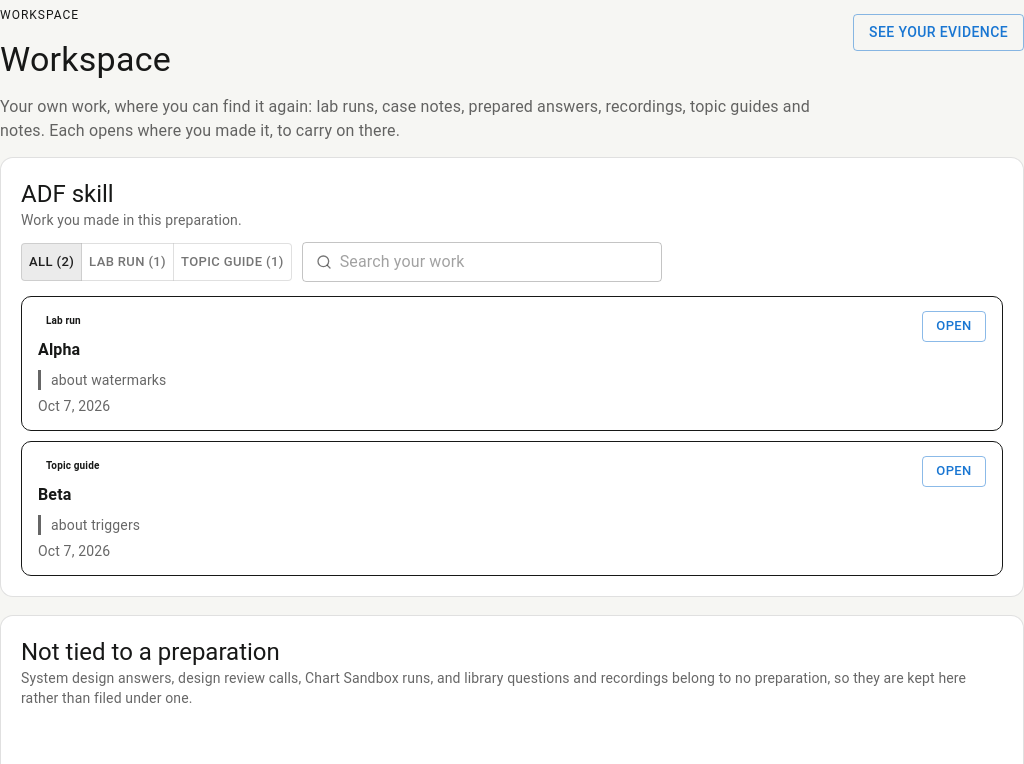
Scenario: WorkspacePage › filters by kind and searches the learner's own words
This screenshot has width=1024, height=764.
Expected: the heading "Beta" is shown, x1=38 y1=484 x2=72 y2=504
Click the button "Topic guide (1)".
click(232, 262)  # box x1=173 y1=242 x2=292 y2=281
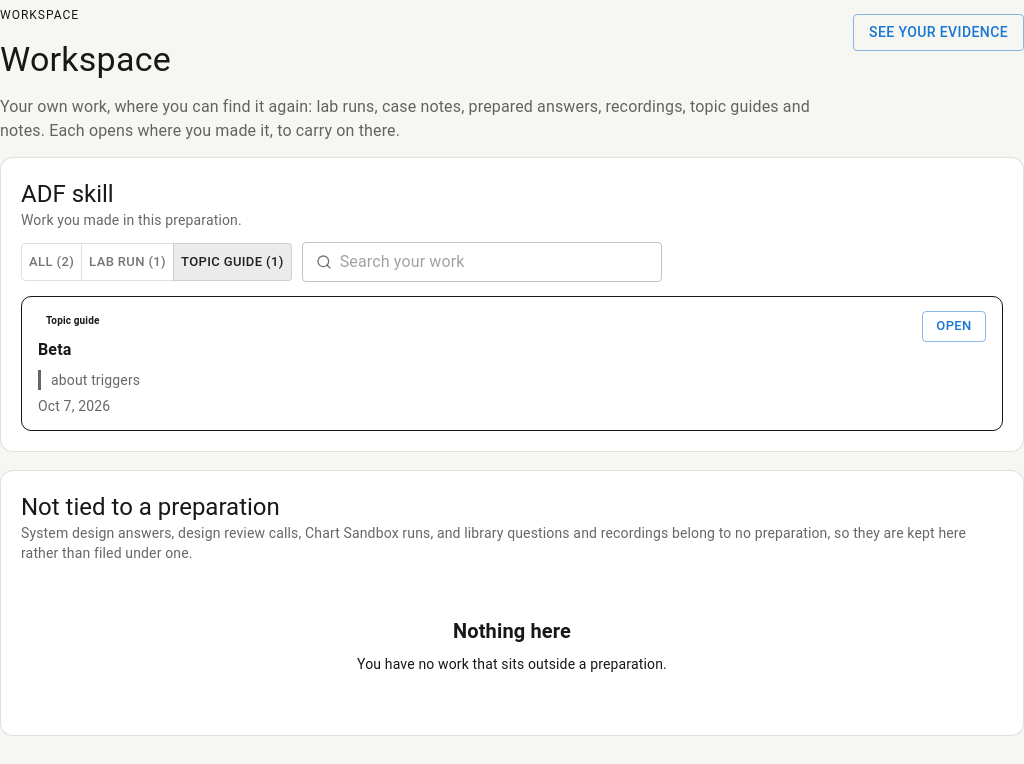
Expected: the heading "Beta" is shown, x1=38 y1=340 x2=72 y2=359
Expected: the heading "Alpha" is gone
Click the button "All (2)".
click(52, 262)  # box x1=21 y1=242 x2=82 y2=281
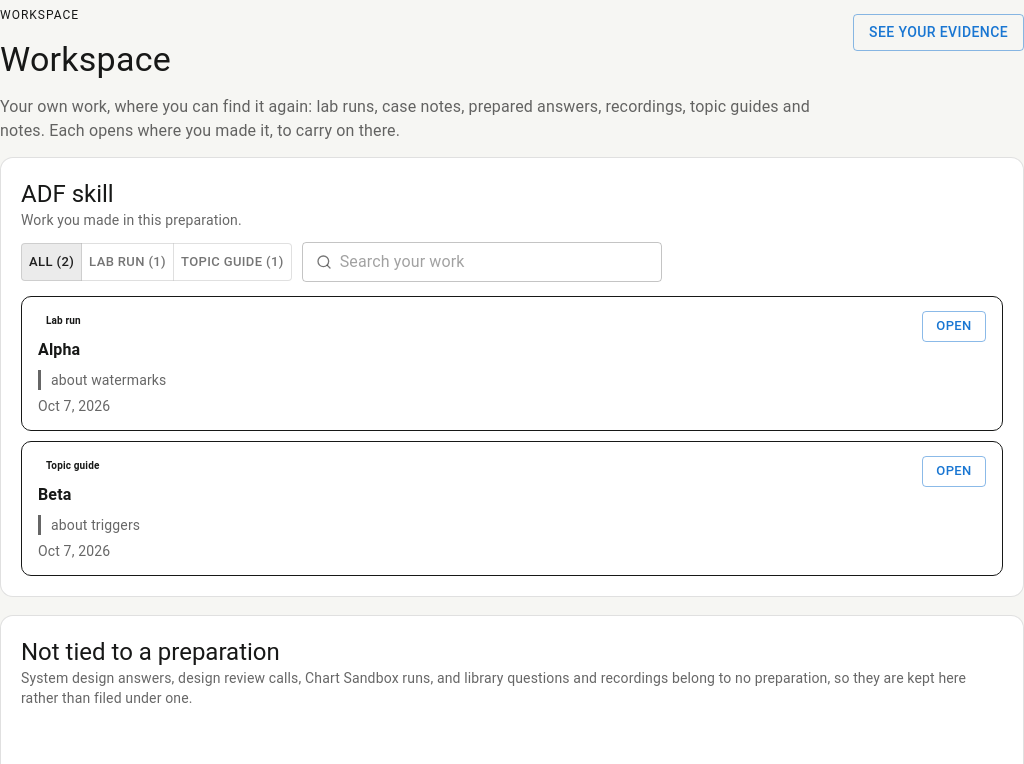
Type "watermarks" into the field labelled "Search your work".
click(501, 262); type("watermarks")  # box x1=340 y1=242 x2=662 y2=282
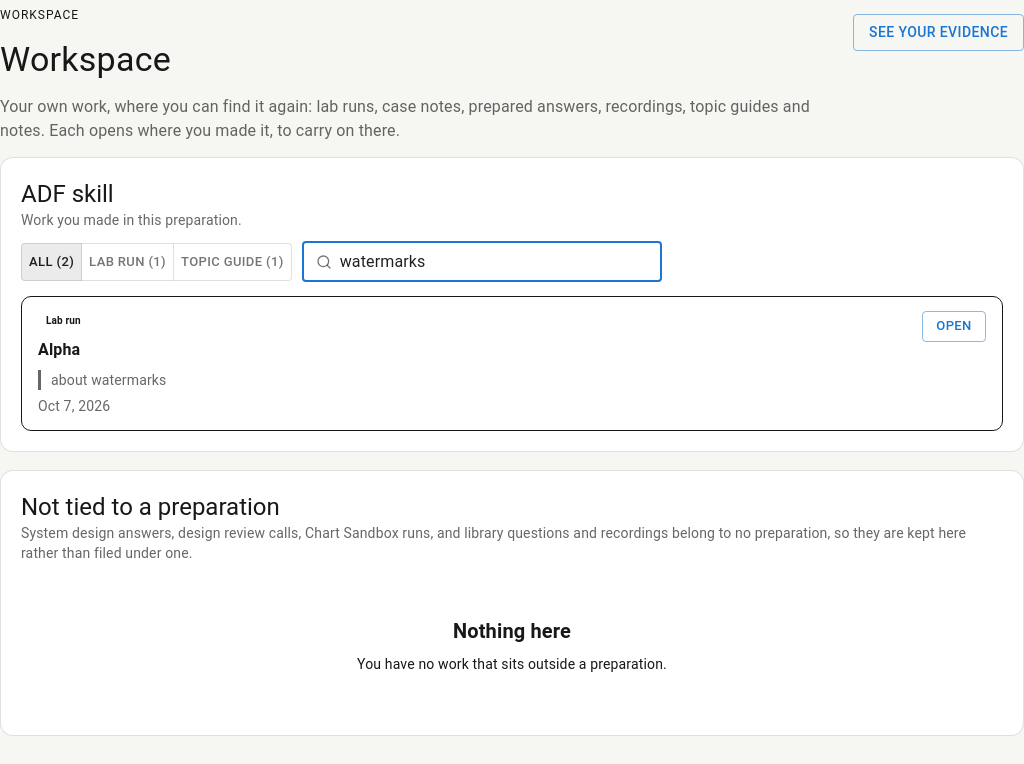
Expected: the heading "Alpha" is shown, x1=38 y1=340 x2=80 y2=359
Expected: the heading "Beta" is gone
